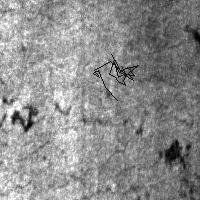crazing: (2, 137, 135, 191), (48, 98, 146, 135), (93, 54, 138, 100), (156, 136, 191, 168)
